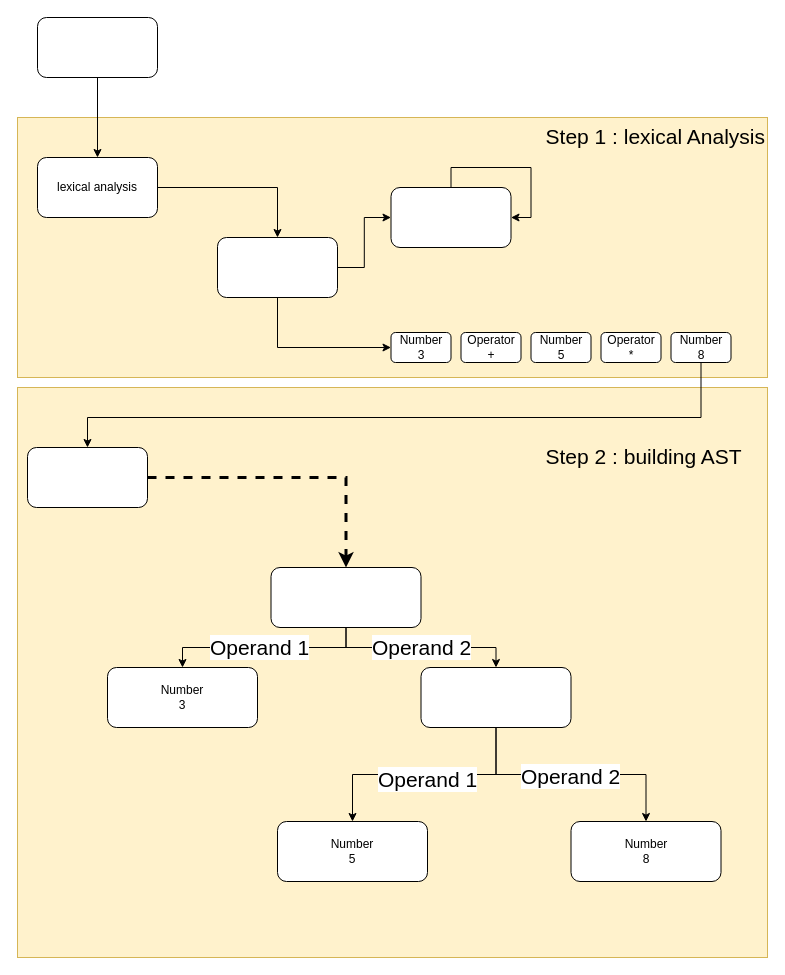
The diagram is 785 pixels wide and 975 high, and some of its shapes have lost their labels. Each missing label, with the box of its shape:
BinaryOperator *: (420, 666, 571, 728)
BinaryOperator +: (270, 566, 421, 628)
Converting tokens into AST: (26, 446, 148, 508)
FSM: (216, 236, 338, 298)
input string e.g. "3+5*8": (36, 16, 158, 78)
State: (390, 186, 511, 248)
